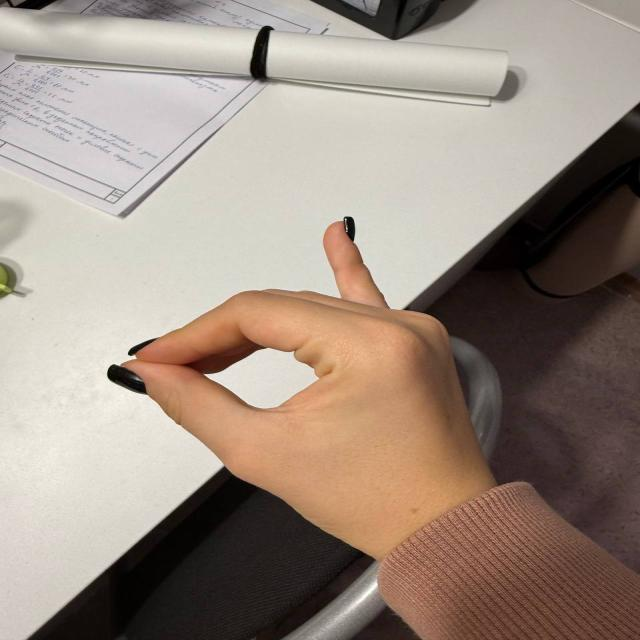iu: (105, 212, 515, 534)
